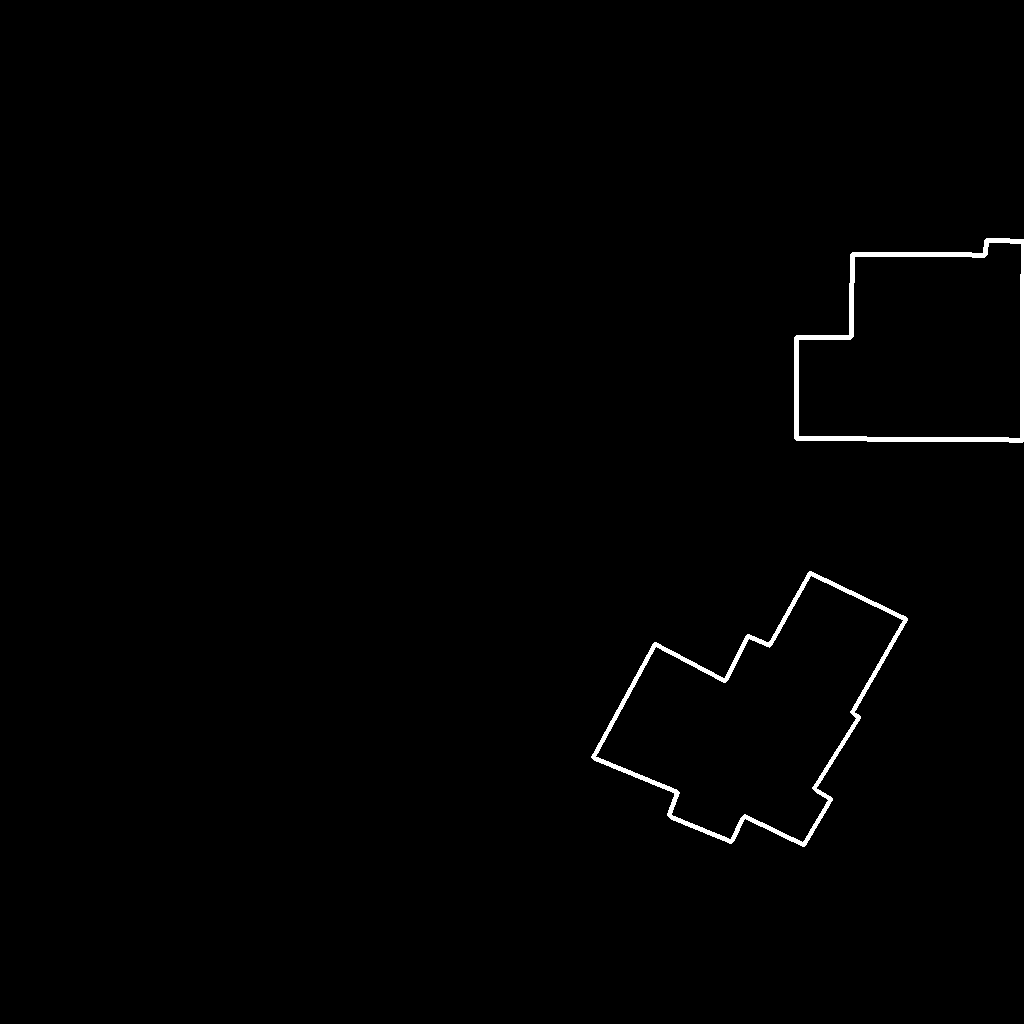building: (593, 573, 907, 846), (796, 240, 1024, 441)
